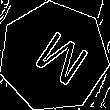M_SW: (21, 23, 87, 91)
